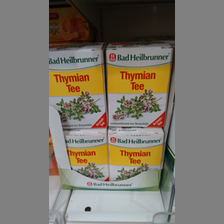tea: (106, 41, 174, 130), (49, 44, 108, 131), (108, 128, 164, 182), (63, 129, 108, 180)
